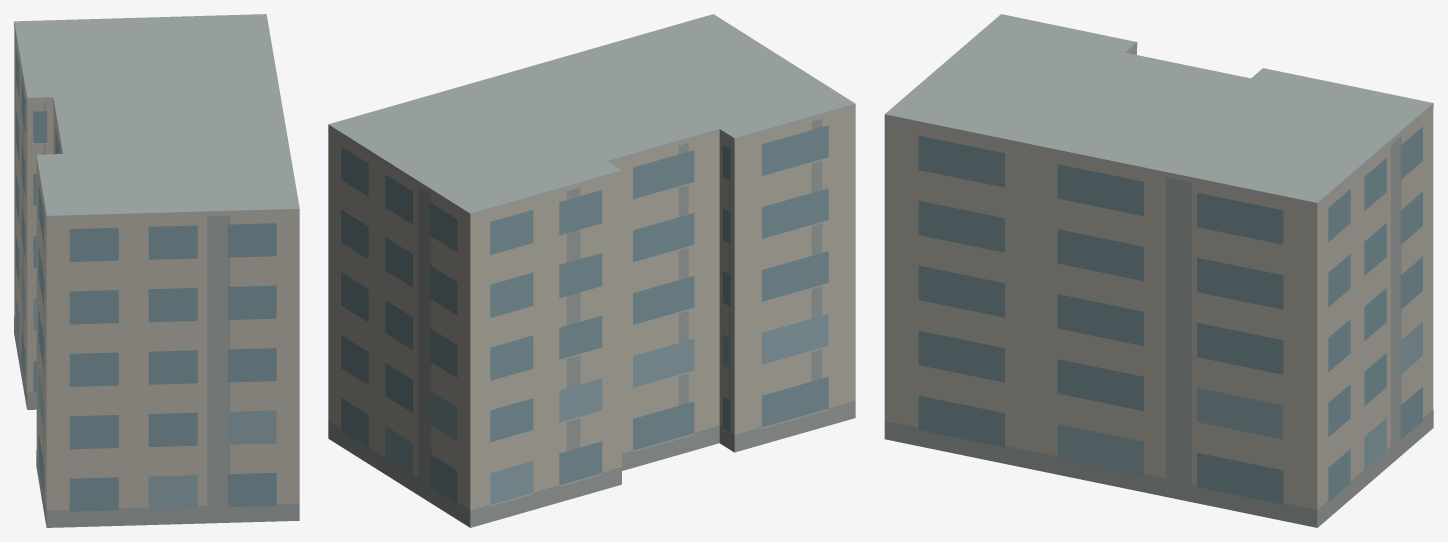
The model's file is survey-upis-33021517.glb.
The picture shows the model from 3 angles, left to right: view 1: azimuth 30°, elevation 25°; view 2: azimuth 150°, elevation 25°; view 3: azimuth 270°, elevation 25°; orthographic projection. The views are drawn at different scales.
Parts seen in each view (by area): view 1: survey-upis-33021517.tmp; view 2: survey-upis-33021517.tmp; view 3: survey-upis-33021517.tmp.
Boxes of the visible parts, left/top/right/bottom form: survey-upis-33021517.tmp: left=14, top=14, right=299, bottom=527; survey-upis-33021517.tmp: left=328, top=14, right=855, bottom=527; survey-upis-33021517.tmp: left=884, top=14, right=1433, bottom=527.
Bounding box in the file's own units: 18.47 × 14.8 × 22.66.
